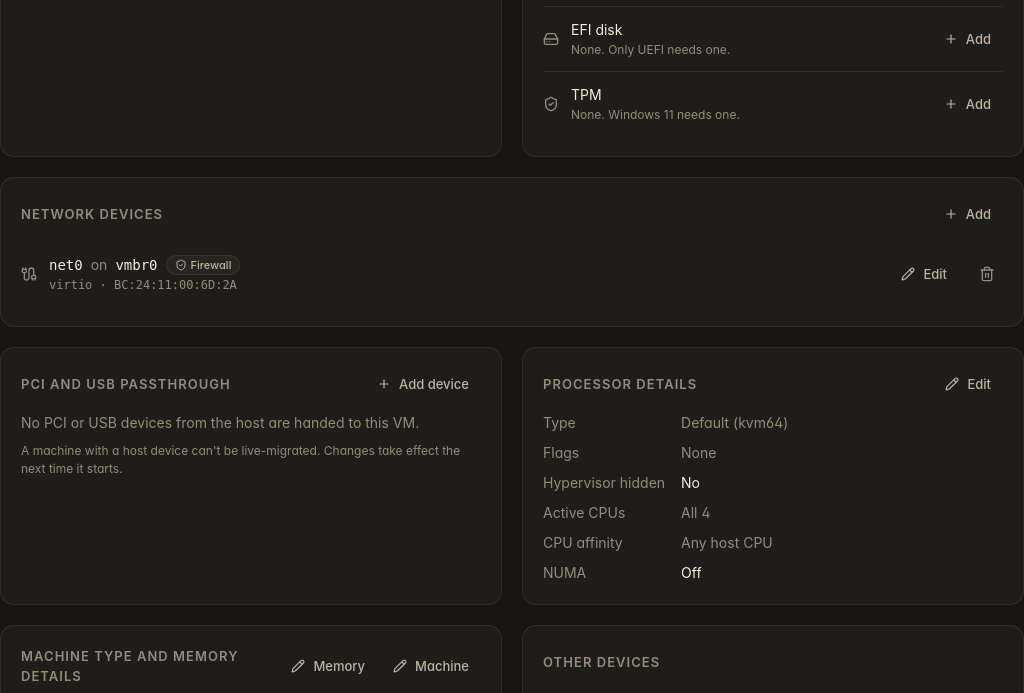
host devices (GU-042, GU-043, GU-059) › removes a device after saying what happens
(page scrolled)
Step 1. Click the button "Add device" → click(423, 384), box 365,368 -> 481,400
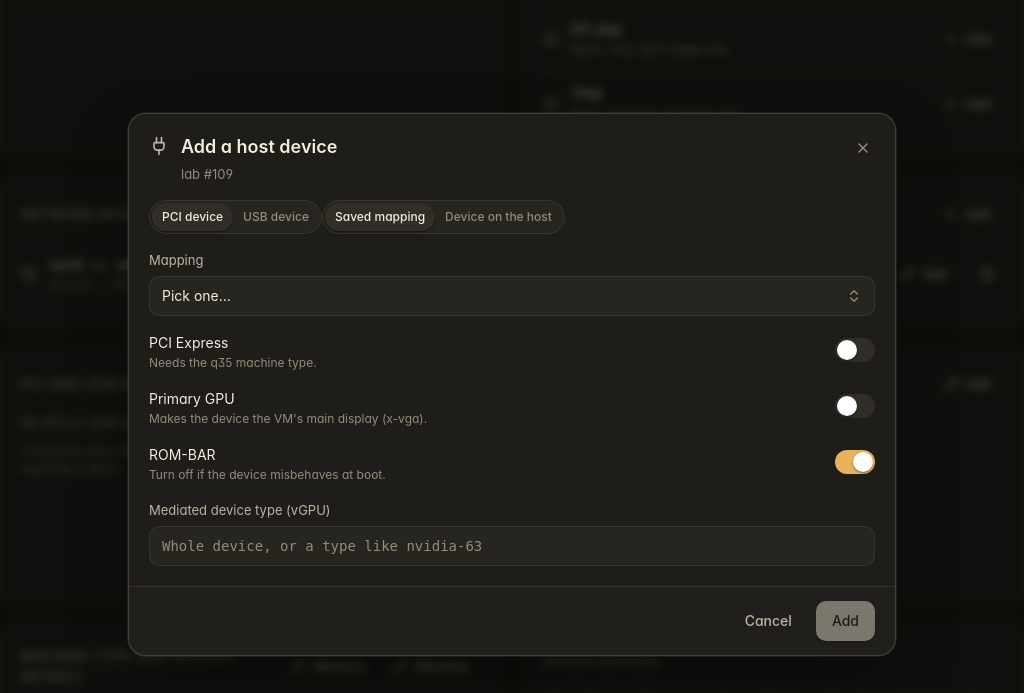
Step 2. Click the radio button labelled "USB device" → click(276, 216), box 233,202 -> 319,230
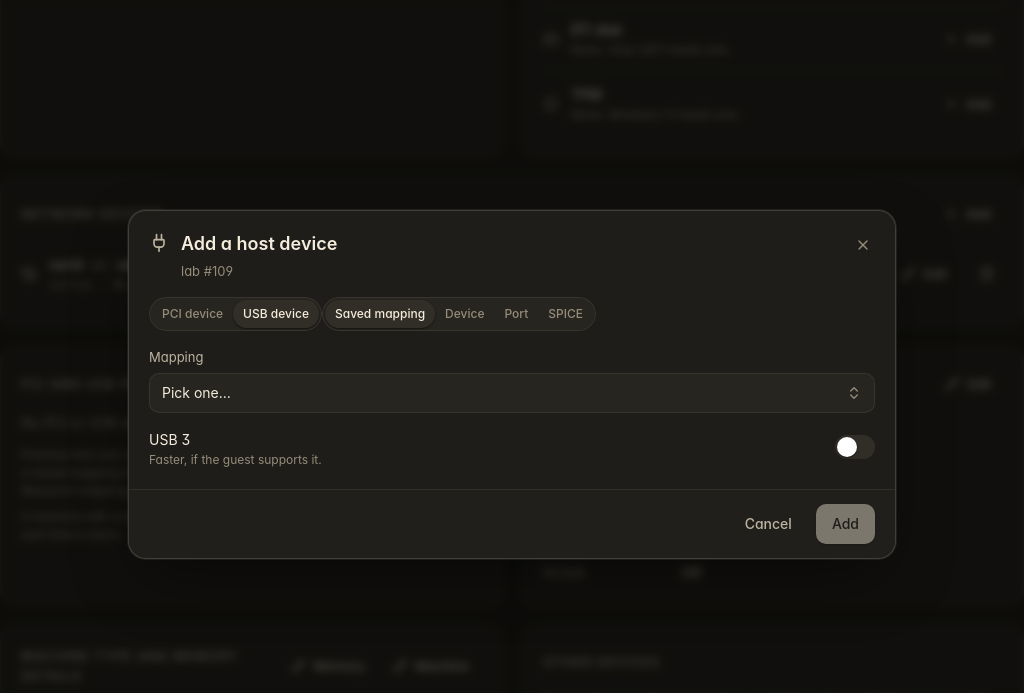
Step 3. Click the radio button labelled "SPICE" → click(566, 314), box 538,300 -> 593,328
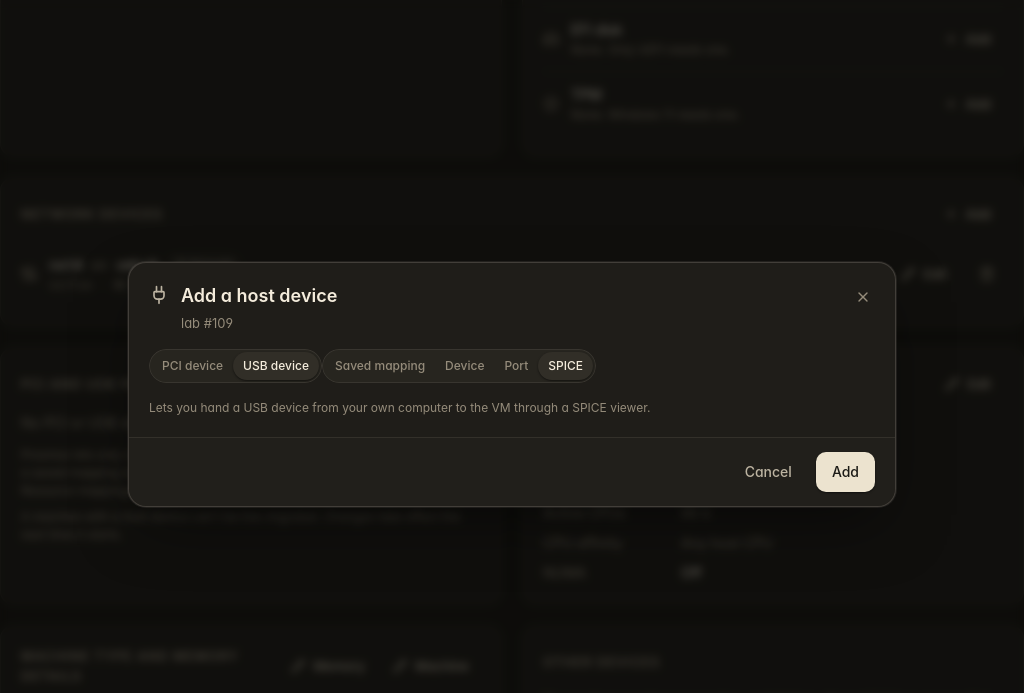
Step 4. Click the button "Add" → click(845, 472), box 816,452 -> 875,492
(page scrolled)
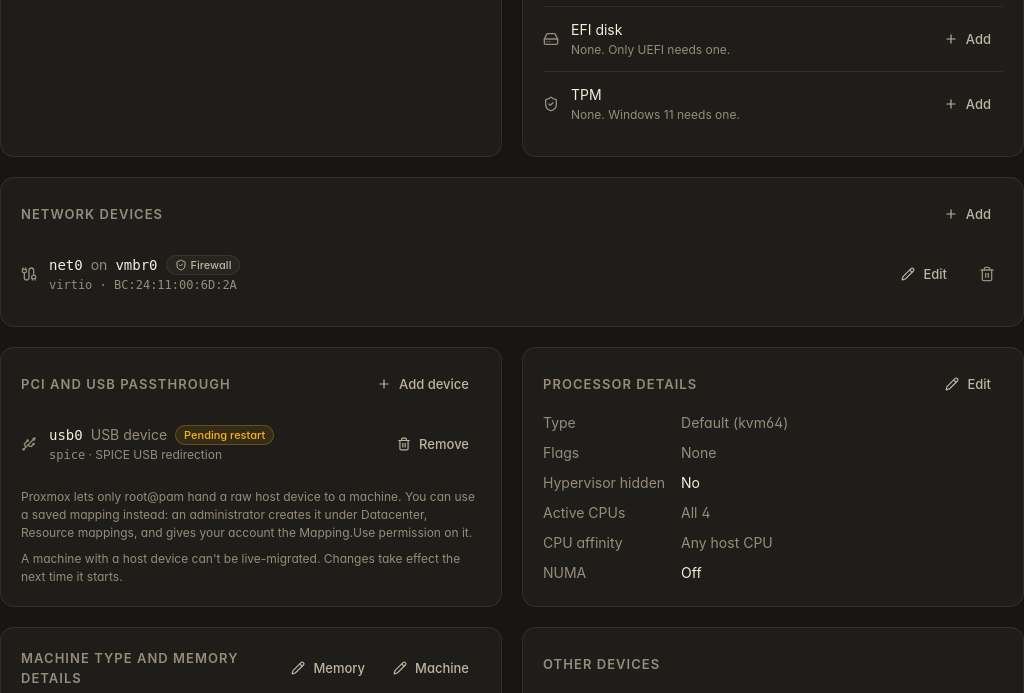
Step 5. Click the button with aria-label "Remove usb0" → click(433, 444), box 385,428 -> 481,460
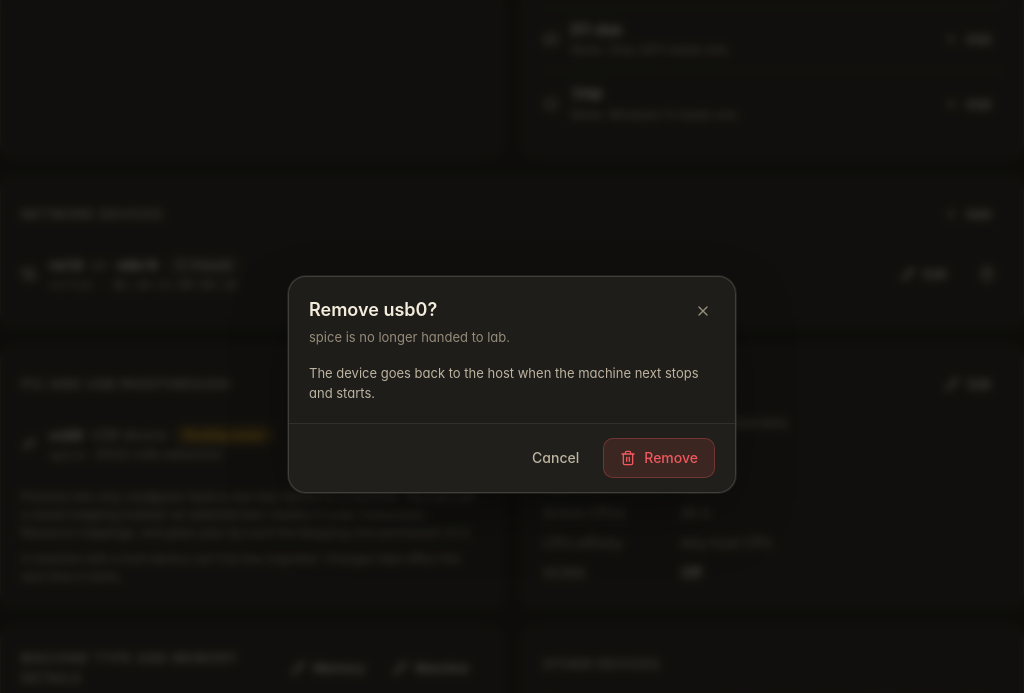
Check: the text "goes back to the host" is shown, box 309,364 -> 698,400
Step 6. Click the button "Remove" → click(659, 458), box 603,438 -> 715,478
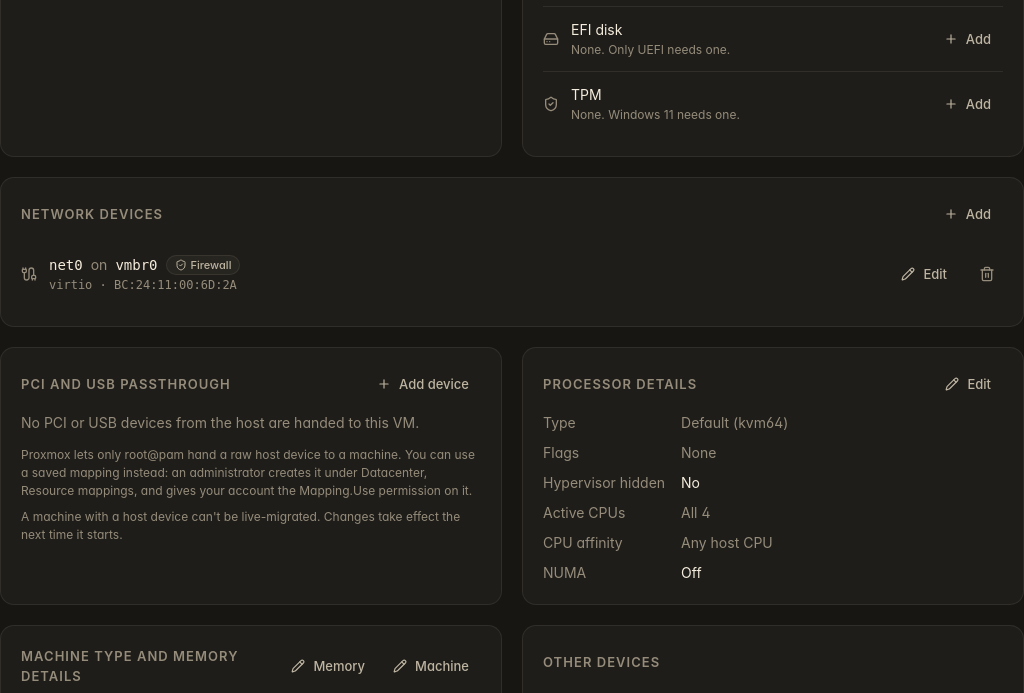
Check: the heading "Remove usb0" is gone
